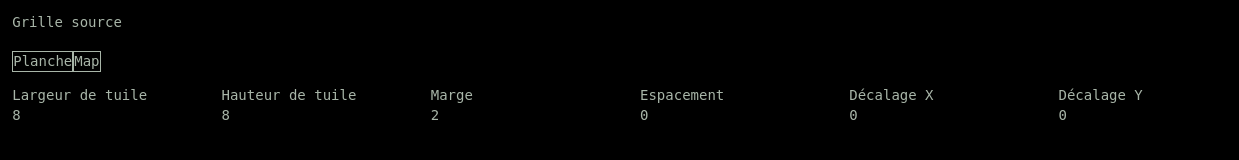
Test case: TilesetGridPanel › clears the margin when the source becomes a map
The image size is (1239, 160).
Click the button "Map": (87, 61) [73, 50, 101, 72]
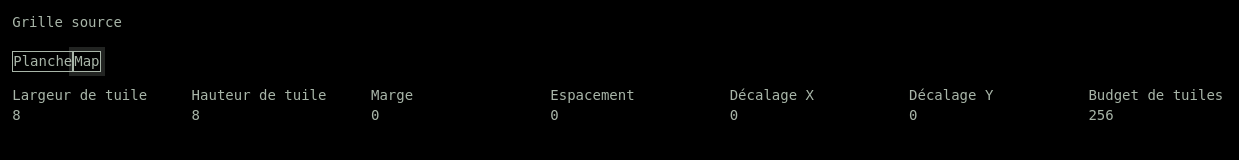
Expected: the number field labelled "Marge" holds "0", [371, 106, 550, 125]
